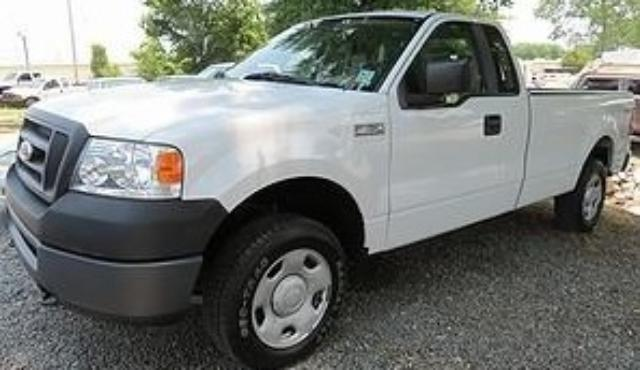pickup-truck: (1, 9, 637, 364)
